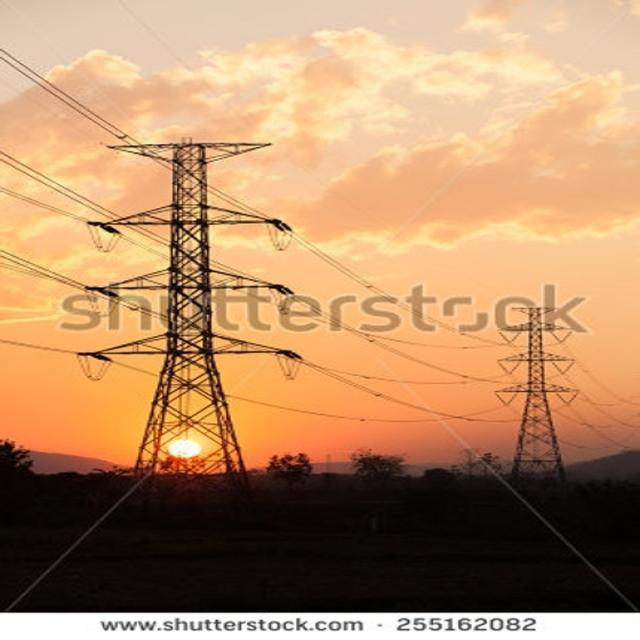non-critical vegetation: (89, 136, 303, 477), (484, 300, 581, 478)
